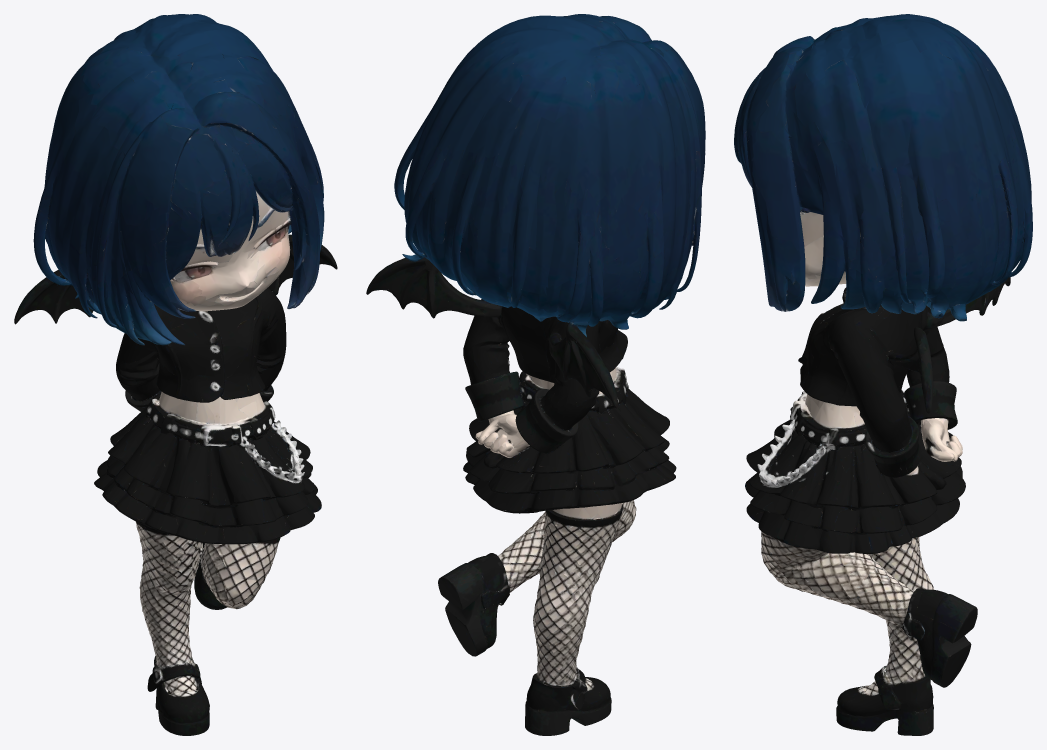
Rendered from chibidevil.glb.
3 views of the same model, side by side, from view 1: azimuth 30°, elevation 25°; view 2: azimuth 150°, elevation 25°; view 3: azimuth 270°, elevation 25° (orthographic). The views are drawn at different scales.
Parts seen in each view (by area): view 1: output_unwrapped; view 2: output_unwrapped; view 3: output_unwrapped.
Boxes of the visible parts, x1,y1,x2,y2 form: output_unwrapped: [14, 14, 337, 735]; output_unwrapped: [366, 14, 705, 735]; output_unwrapped: [734, 14, 1032, 735].
Bounding box in the file's own units: 0.8621 × 1.9 × 0.7324.
1 material, 1 textured.
